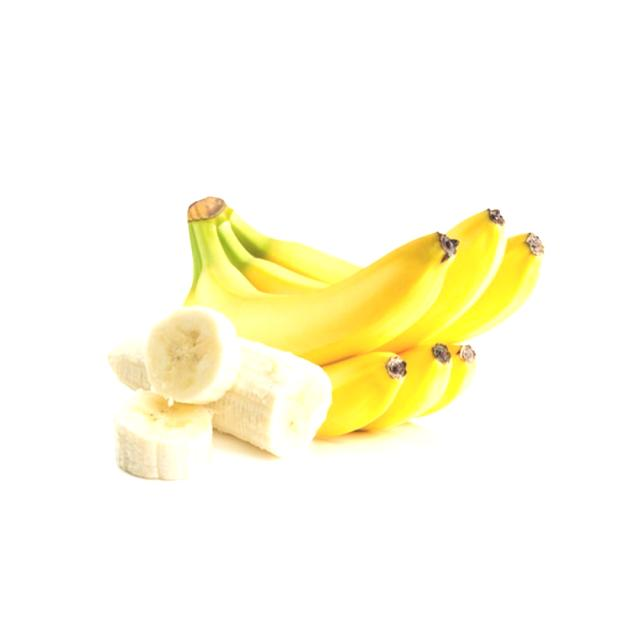chuoi: (184, 196, 459, 365), (381, 209, 507, 353), (439, 233, 544, 344), (317, 352, 403, 437), (367, 344, 452, 429), (418, 344, 477, 416)
